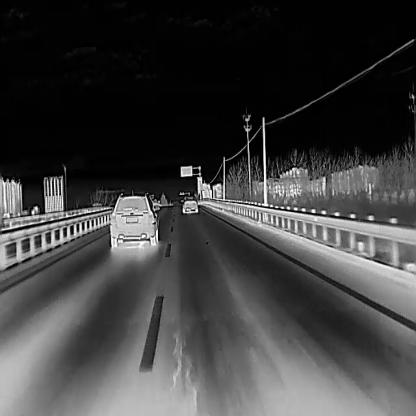car: (108, 191, 157, 247), (181, 193, 197, 212)
